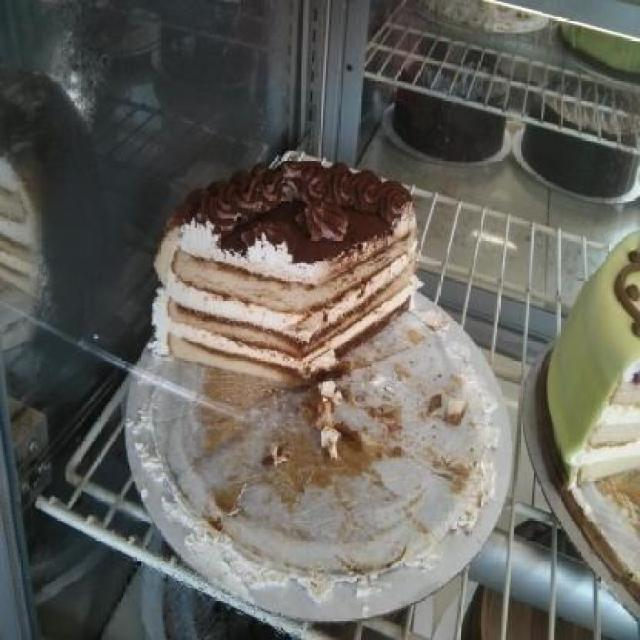Pancake: (137, 203, 506, 580)
